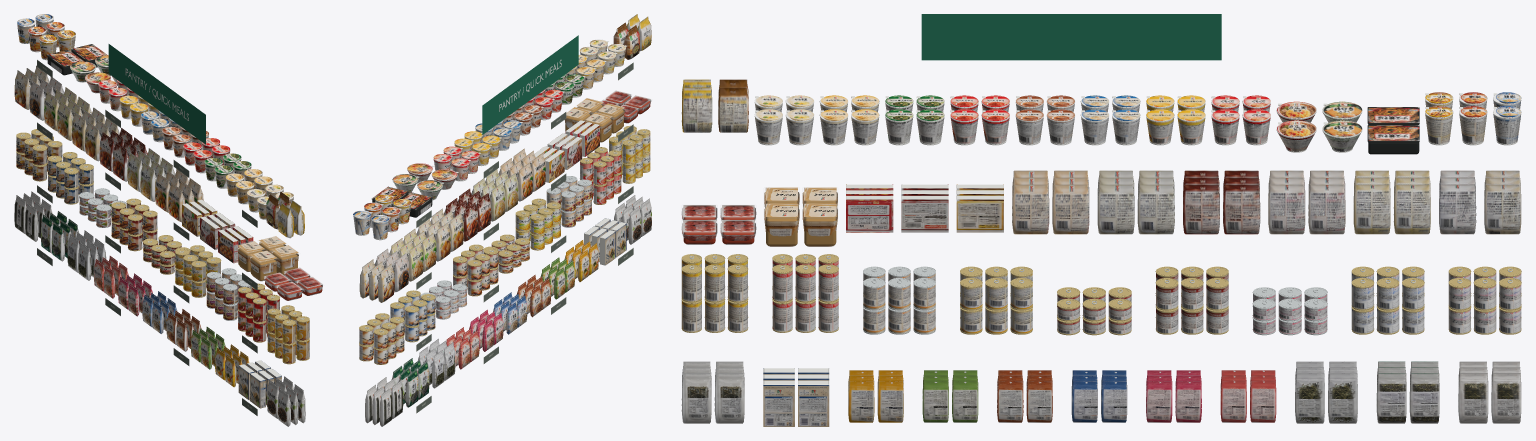
Rendered from pantry-v20.glb.
3 views of the same model, side by side, from view 1: azimuth 30°, elevation 25°; view 2: azimuth 150°, elevation 25°; view 3: azimuth 270°, elevation 25° (orthographic). The views are drawn at different scales.
Parts seen in each view (by area): view 1: PANTRY_V20_category_sign, PANTRY_V20_gusseted_package.002, PANTRY_V20_gusseted_package.037, PANTRY_V20_gusseted_package.003, PANTRY_V20_gusseted_package.042, PANTRY_V20_gusseted_package.027, PANTRY_V20_gusseted_package.032, PANTRY_V20_gusseted_package.047, PANTRY_V20_gusseted_package.007, PANTRY_V20_gusseted_package.004, PANTRY_V20_gusseted_package.008, PANTRY_V20_gusseted_package.006 (+27 smaller); view 2: PANTRY_V20_category_sign, PANTRY_V20_gusseted_package.002, PANTRY_V20_gusseted_package.006, PANTRY_V20_gusseted_package.003, PANTRY_V20_gusseted_package.007, PANTRY_V20_gusseted_package.004, PANTRY_V20_gusseted_package.008, PANTRY_V20_gusseted_package.005, PANTRY_V20_gusseted_package.042, PANTRY_V20_gusseted_package.027, PANTRY_V20_gusseted_package.032, PANTRY_V20_gusseted_package.047 (+27 smaller); view 3: PANTRY_V20_category_sign, PANTRY_V20_gusseted_package.031, PANTRY_V20_gusseted_package.046, PANTRY_V20_gusseted_package.044, PANTRY_V20_gusseted_package.034, PANTRY_V20_gusseted_package.049, PANTRY_V20_gusseted_package.041, PANTRY_V20_gusseted_package.022, PANTRY_V20_gusseted_package.029, PANTRY_V20_gusseted_package.036, PANTRY_V20_gusseted_package.024, PANTRY_V20_gusseted_package.026 (+30 smaller).
Boxes of the visible parts, x1=… form: PANTRY_V20_category_sign: x1=108, y1=44, x2=205, y2=144; PANTRY_V20_gusseted_package.002: x1=14, y1=70, x2=30, y2=109; PANTRY_V20_gusseted_package.037: x1=112, y1=142, x2=128, y2=181; PANTRY_V20_gusseted_package.003: x1=29, y1=81, x2=45, y2=120; PANTRY_V20_gusseted_package.042: x1=140, y1=162, x2=156, y2=201; PANTRY_V20_gusseted_package.027: x1=57, y1=101, x2=73, y2=140; PANTRY_V20_gusseted_package.032: x1=84, y1=121, x2=101, y2=161; PANTRY_V20_gusseted_package.047: x1=168, y1=182, x2=184, y2=222; PANTRY_V20_gusseted_package.007: x1=127, y1=152, x2=142, y2=192; PANTRY_V20_gusseted_package.004: x1=44, y1=91, x2=59, y2=131; PANTRY_V20_gusseted_package.008: x1=155, y1=173, x2=170, y2=212; PANTRY_V20_gusseted_package.006: x1=99, y1=132, x2=114, y2=171; PANTRY_V20_category_sign: x1=482, y1=35, x2=578, y2=134; PANTRY_V20_gusseted_package.002: x1=378, y1=263, x2=394, y2=302; PANTRY_V20_gusseted_package.006: x1=462, y1=202, x2=478, y2=241; PANTRY_V20_gusseted_package.003: x1=393, y1=253, x2=409, y2=292; PANTRY_V20_gusseted_package.007: x1=489, y1=182, x2=505, y2=221; PANTRY_V20_gusseted_package.004: x1=407, y1=242, x2=423, y2=281; PANTRY_V20_gusseted_package.008: x1=517, y1=162, x2=532, y2=201; PANTRY_V20_gusseted_package.005: x1=435, y1=222, x2=450, y2=261; PANTRY_V20_gusseted_package.042: x1=503, y1=173, x2=518, y2=212; PANTRY_V20_gusseted_package.027: x1=421, y1=233, x2=436, y2=271; PANTRY_V20_gusseted_package.032: x1=448, y1=213, x2=463, y2=252; PANTRY_V20_gusseted_package.047: x1=531, y1=153, x2=545, y2=192; PANTRY_V20_category_sign: x1=921, y1=14, x2=1221, y2=60; PANTRY_V20_gusseted_package.031: x1=1308, y1=184, x2=1345, y2=234; PANTRY_V20_gusseted_package.046: x1=1052, y1=184, x2=1089, y2=234; PANTRY_V20_gusseted_package.044: x1=1097, y1=184, x2=1134, y2=234; PANTRY_V20_gusseted_package.034: x1=1268, y1=184, x2=1305, y2=234; PANTRY_V20_gusseted_package.049: x1=1012, y1=184, x2=1049, y2=234; PANTRY_V20_gusseted_package.041: x1=1137, y1=184, x2=1174, y2=234; PANTRY_V20_gusseted_package.022: x1=1484, y1=184, x2=1521, y2=234; PANTRY_V20_gusseted_package.029: x1=1353, y1=184, x2=1390, y2=234; PANTRY_V20_gusseted_package.036: x1=1223, y1=184, x2=1260, y2=234; PANTRY_V20_gusseted_package.024: x1=1439, y1=184, x2=1476, y2=234; PANTRY_V20_gusseted_package.026: x1=1393, y1=184, x2=1430, y2=234.
Bounding box in the file's own units: 0.3108 × 1.48 × 2.8.
Materials: 12 (4 with a texture image).
